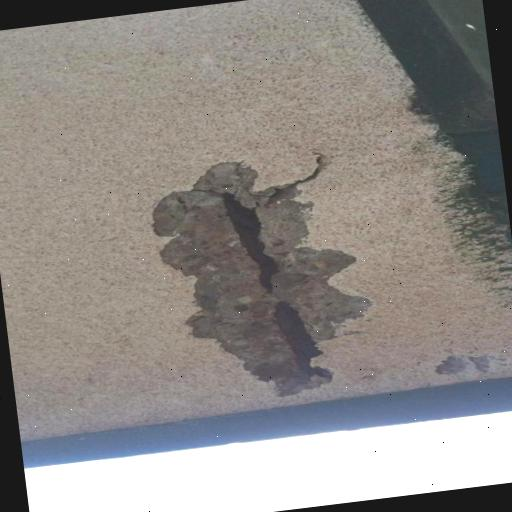spalling: (152, 157, 368, 392), (260, 139, 339, 195)
